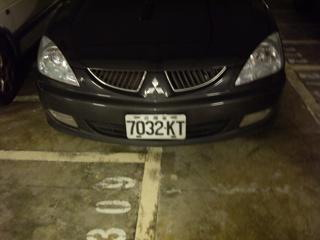plate: (122, 112, 188, 142)
